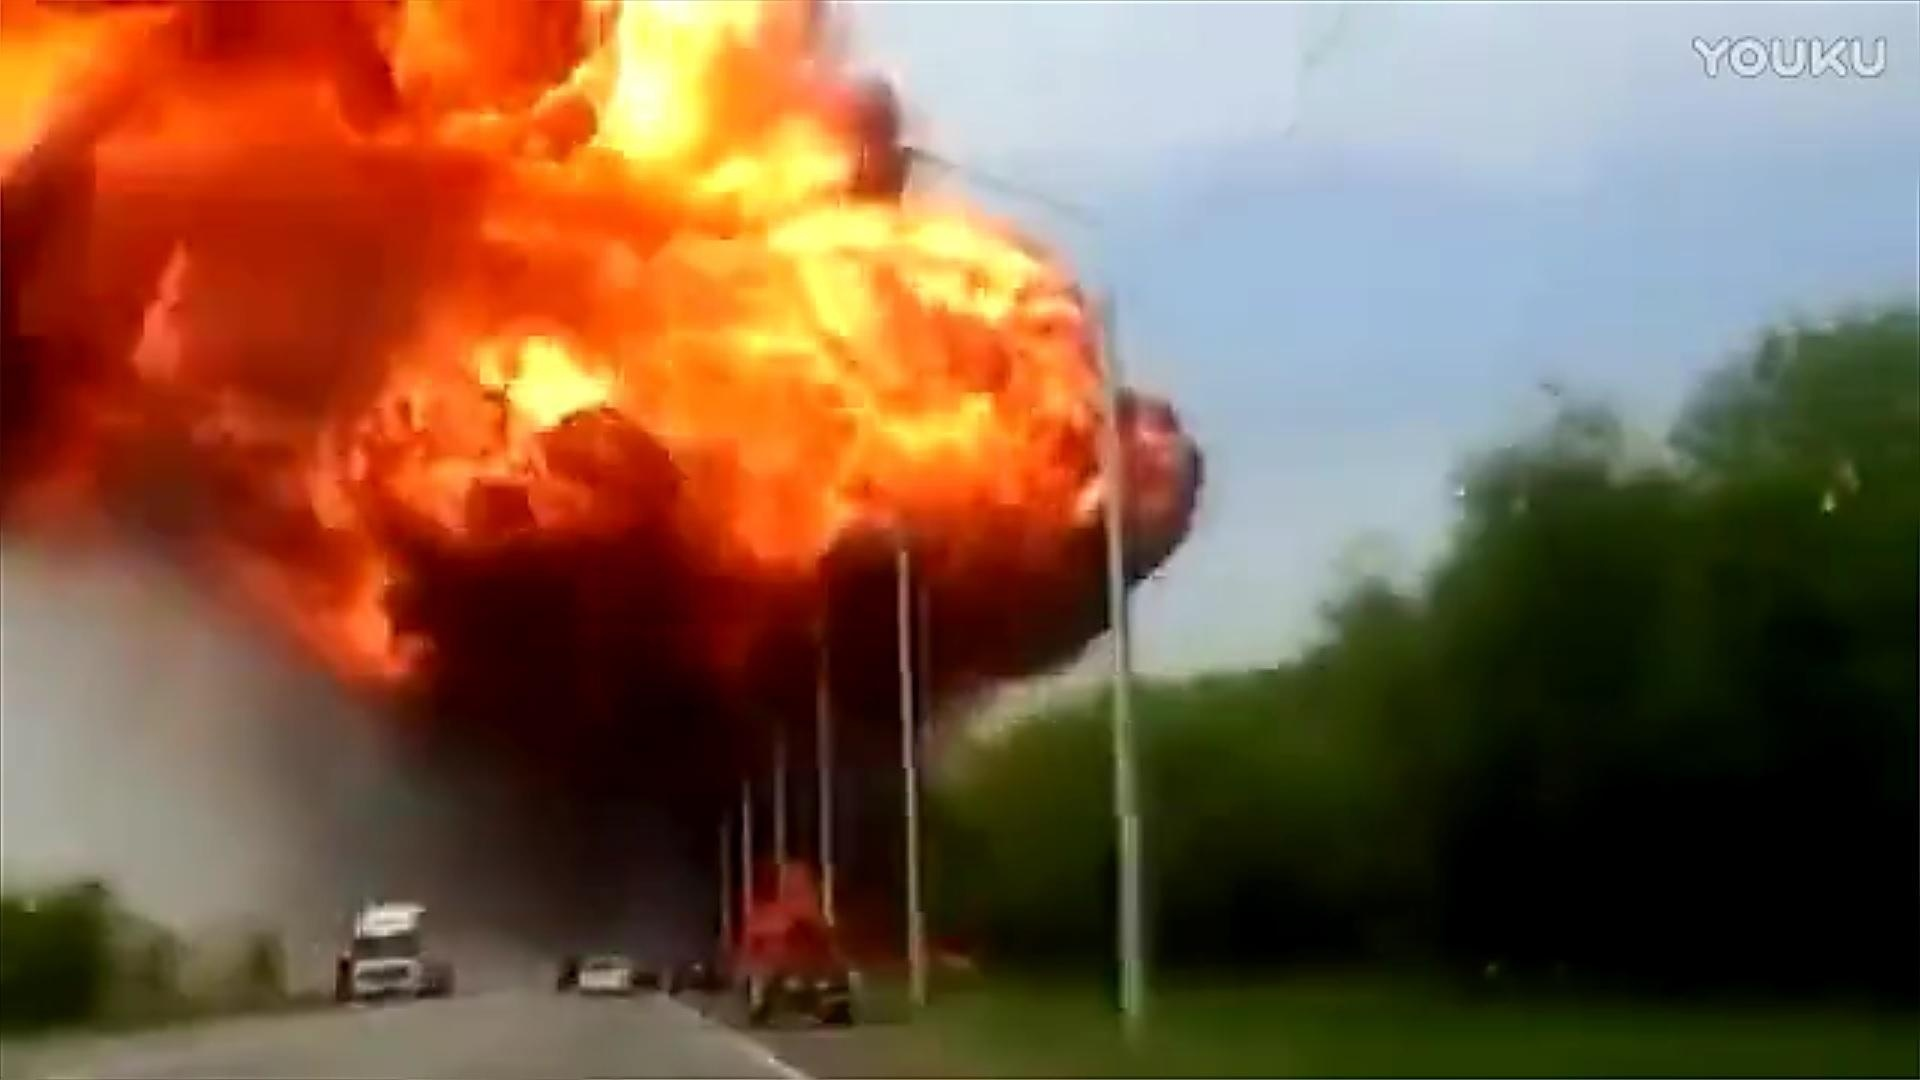fire: (32, 7, 1131, 707)
